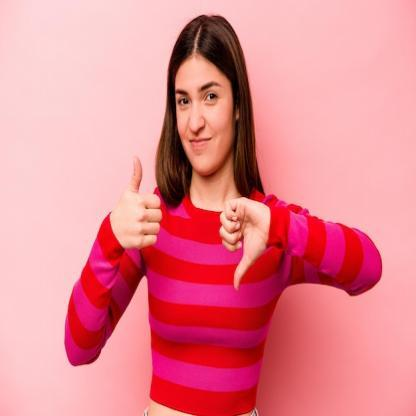thumb_down: (218, 192, 270, 292)
thumb_up: (110, 154, 164, 258)
